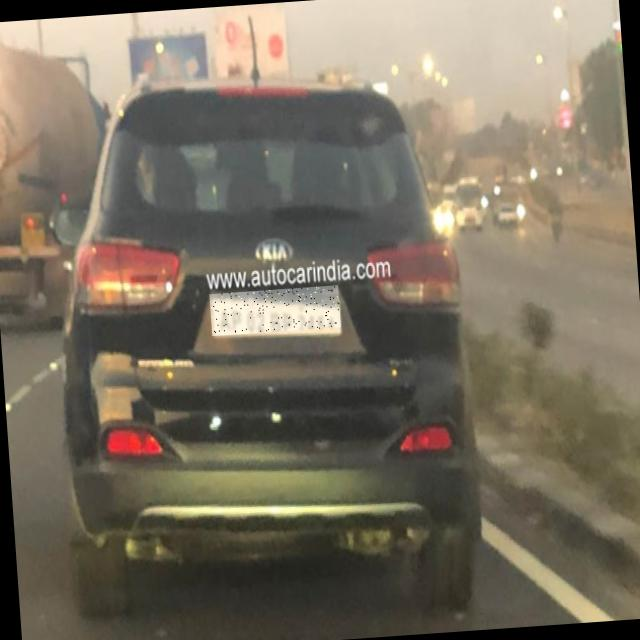Plate: (210, 286, 342, 337)
